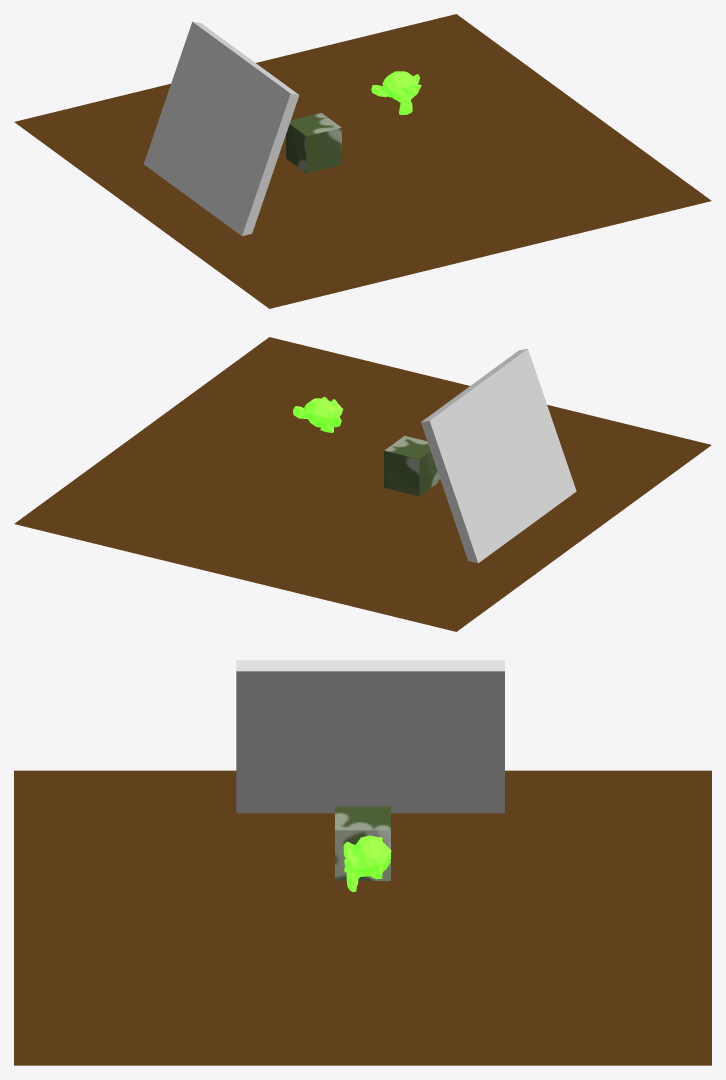
The picture shows the model from 3 angles, top to bottom: view 1: azimuth 30°, elevation 25°; view 2: azimuth 150°, elevation 25°; view 3: azimuth 270°, elevation 25°; orthographic projection. The views are drawn at different scales.
Parts seen in each view (by area): view 1: Plane, Cube.001, Cube, Suzanne; view 2: Plane, Cube.001, Cube, Suzanne; view 3: Plane, Cube.001, Cube, Suzanne.
Boxes of the visible parts, left/top/right/bottom form: Plane: left=14, top=14, right=711, bottom=308; Cube.001: left=144, top=21, right=299, bottom=235; Cube: left=286, top=112, right=341, bottom=173; Suzanne: left=371, top=71, right=421, bottom=114; Plane: left=14, top=337, right=711, bottom=631; Cube.001: left=421, top=349, right=576, bottom=563; Cube: left=384, top=435, right=439, bottom=496; Suzanne: left=292, top=397, right=343, bottom=432; Plane: left=14, top=770, right=711, bottom=1065; Cube.001: left=236, top=660, right=504, bottom=813; Cube: left=335, top=806, right=390, bottom=880; Suzanne: left=343, top=835, right=391, bottom=891.
Size of what is drawn, in the model's own units: 24.97 by 9.15 by 24.97.
Materials: 3 (1 with a texture image).
